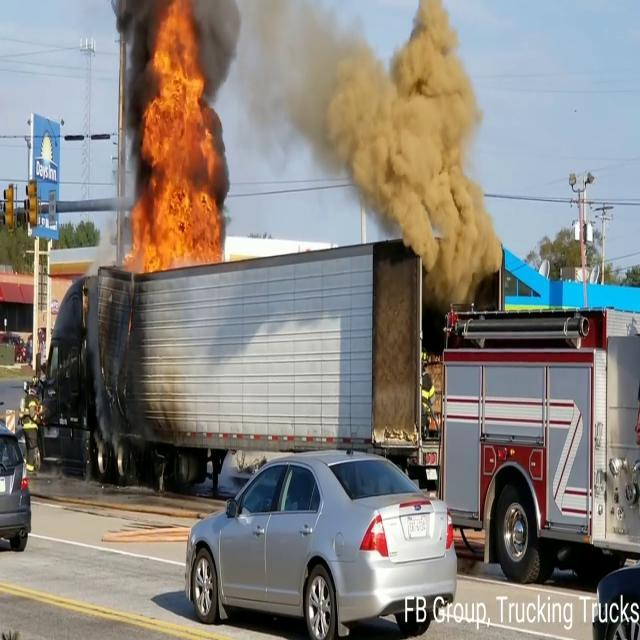Fire: (121, 7, 232, 274)
Smoke: (227, 0, 507, 286)
